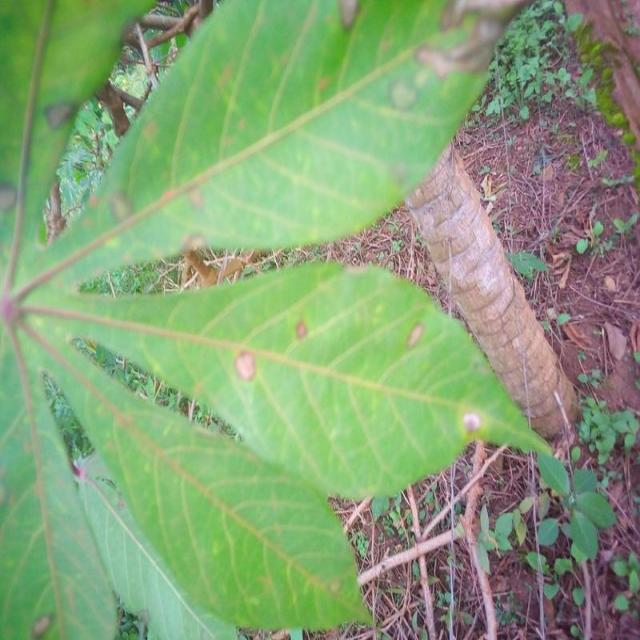cassava leaf: (1, 0, 574, 638)
